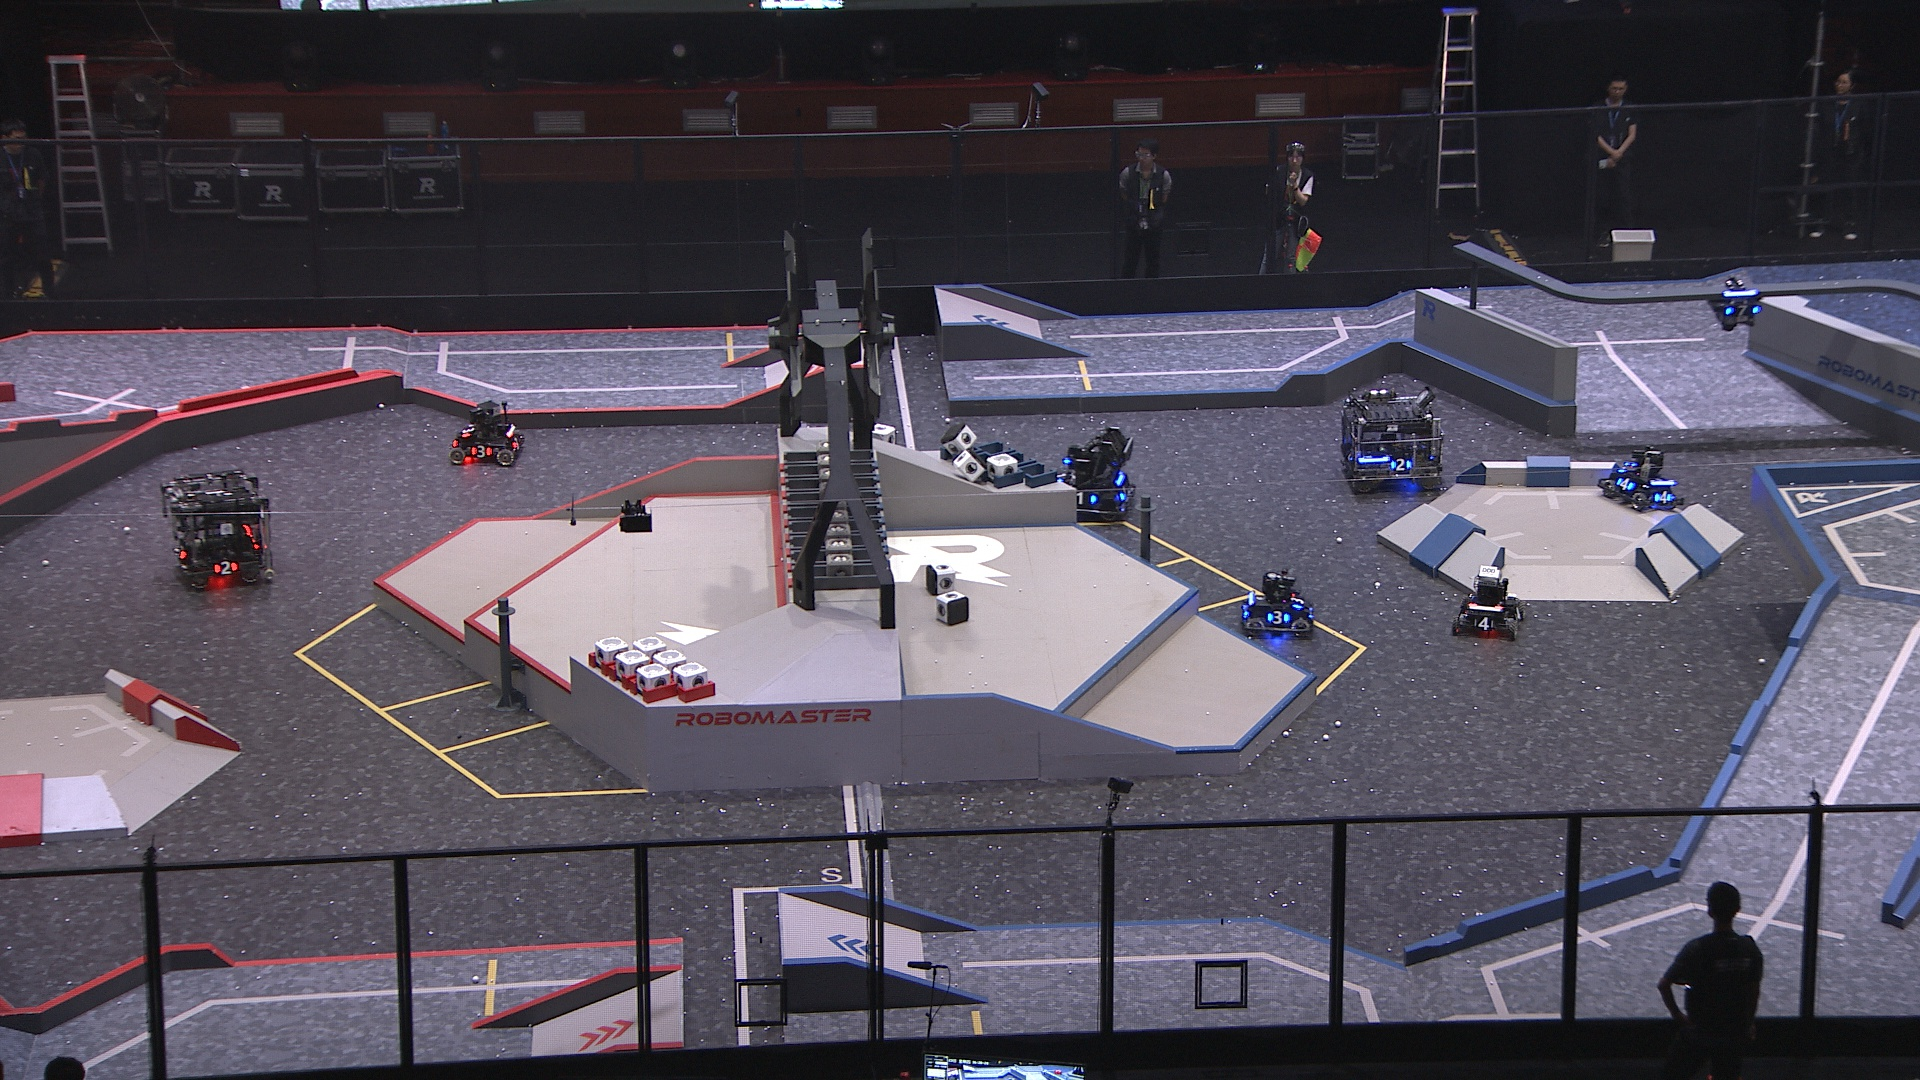armor: (1724, 305, 1760, 319), (1073, 491, 1097, 508), (212, 559, 237, 575), (1614, 473, 1633, 495), (1472, 617, 1495, 633), (1267, 608, 1291, 624), (1652, 491, 1677, 505), (468, 443, 491, 458), (1390, 458, 1414, 471), (1290, 591, 1305, 611), (462, 419, 476, 440), (174, 543, 189, 560), (1059, 465, 1069, 485), (1121, 483, 1133, 500), (508, 433, 520, 448), (1513, 605, 1524, 621), (1344, 448, 1353, 463)
car: (157, 465, 278, 589), (1337, 385, 1448, 493), (1050, 429, 1143, 526), (1600, 444, 1688, 514), (1236, 574, 1317, 644), (447, 396, 526, 467), (1452, 566, 1527, 640)
watcher: (1706, 278, 1768, 332)
